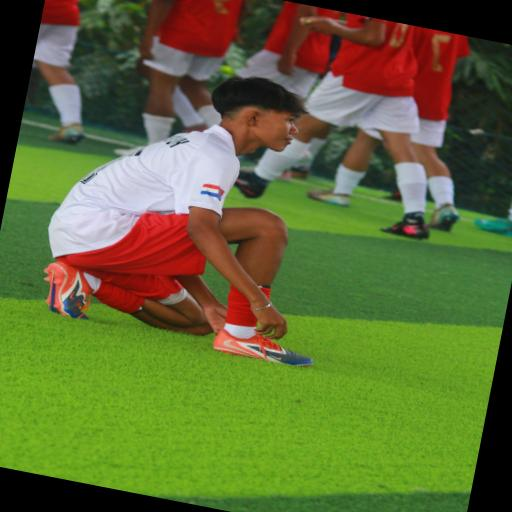shoe: (212, 330, 312, 366), (43, 261, 90, 319), (380, 213, 428, 239), (234, 171, 268, 198), (427, 204, 458, 232), (47, 123, 84, 144), (306, 190, 349, 207), (474, 218, 511, 236), (112, 146, 145, 155), (290, 165, 309, 179), (382, 191, 401, 201), (277, 170, 291, 181), (239, 164, 254, 172)
